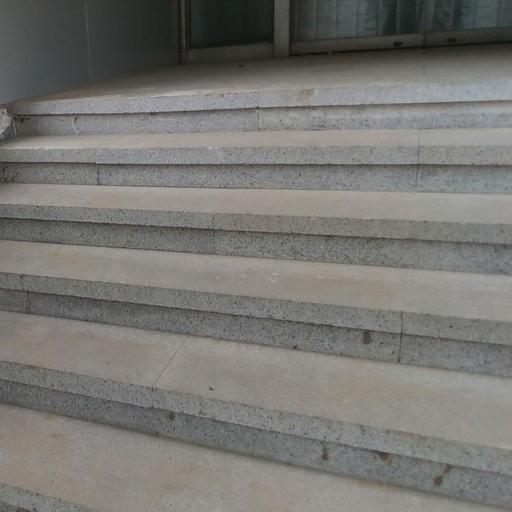stairs: (0, 83, 511, 511)
